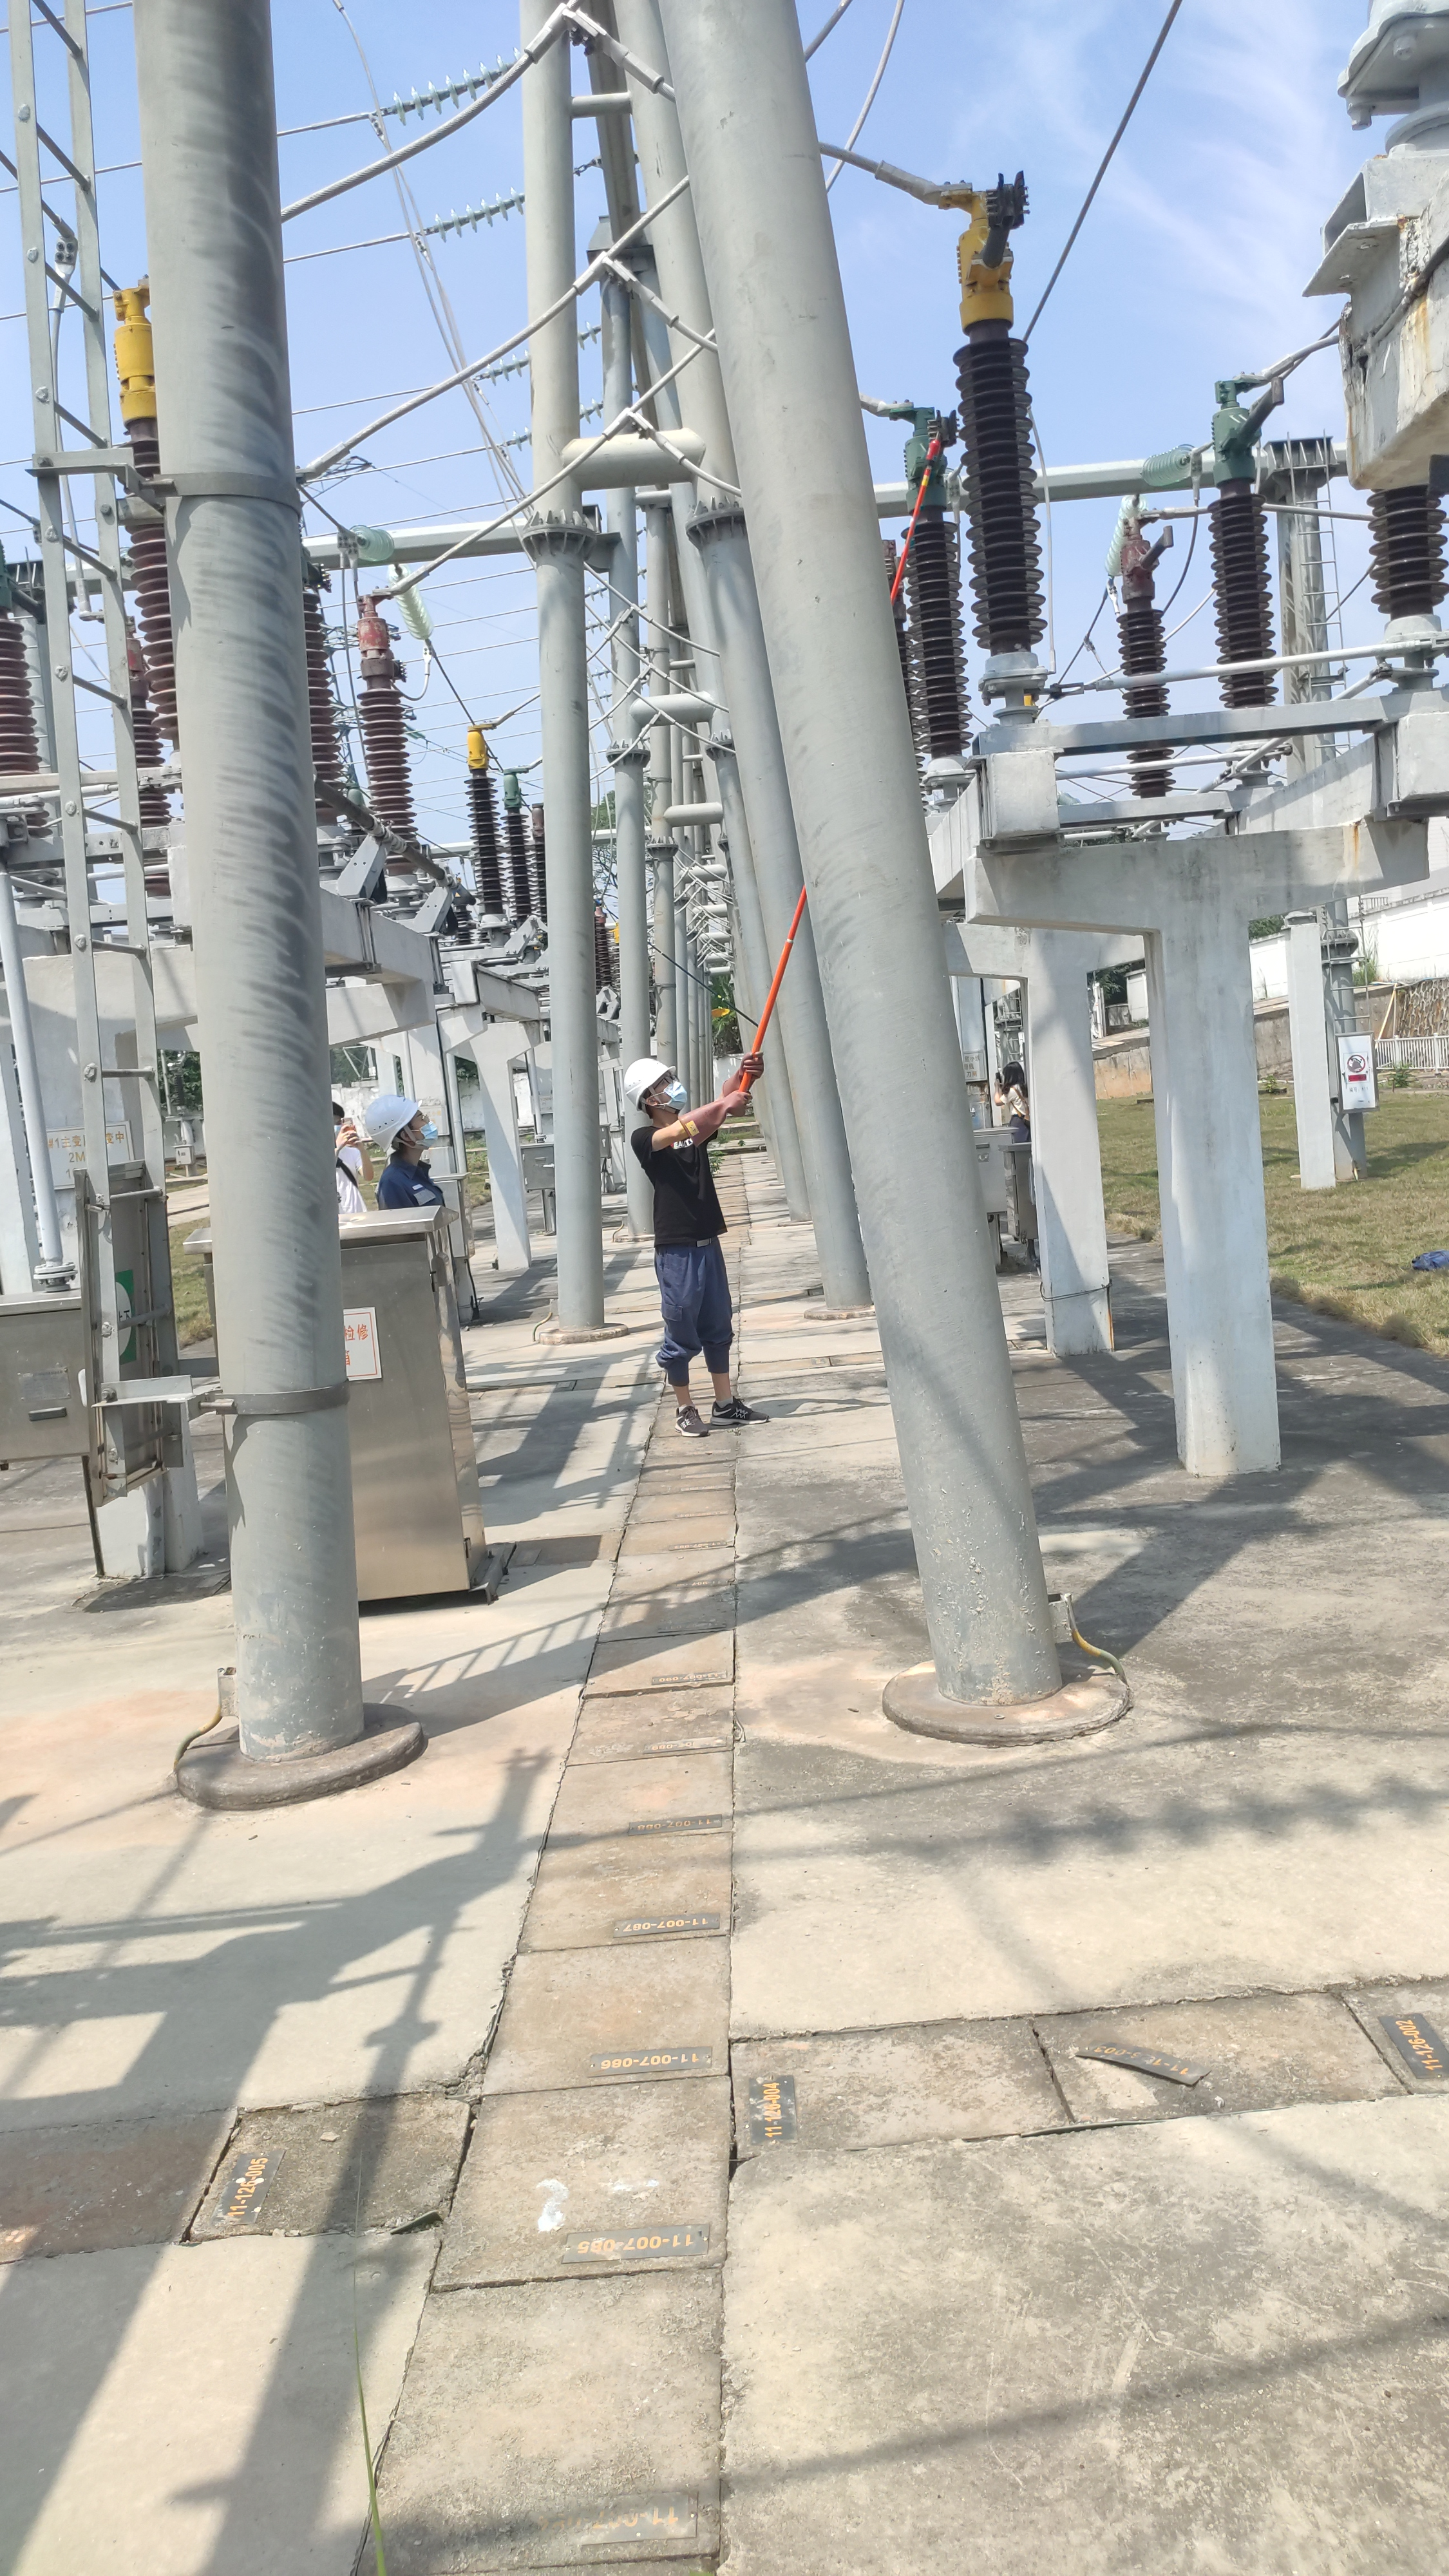downsuit: (656, 1251, 737, 1403)
halt: (366, 1086, 431, 1159), (625, 1059, 685, 1130)
inear: (637, 1088, 671, 1119), (388, 1126, 421, 1152)
longglove: (677, 1088, 753, 1148), (718, 1052, 766, 1097)
operatingbar: (736, 425, 942, 1092)
person: (620, 1054, 766, 1452), (363, 1084, 448, 1209)
upcloth: (629, 1122, 724, 1233)
upsuit: (374, 1154, 446, 1208)
wrongbottom: (703, 1350, 738, 1408), (663, 1350, 693, 1410)
